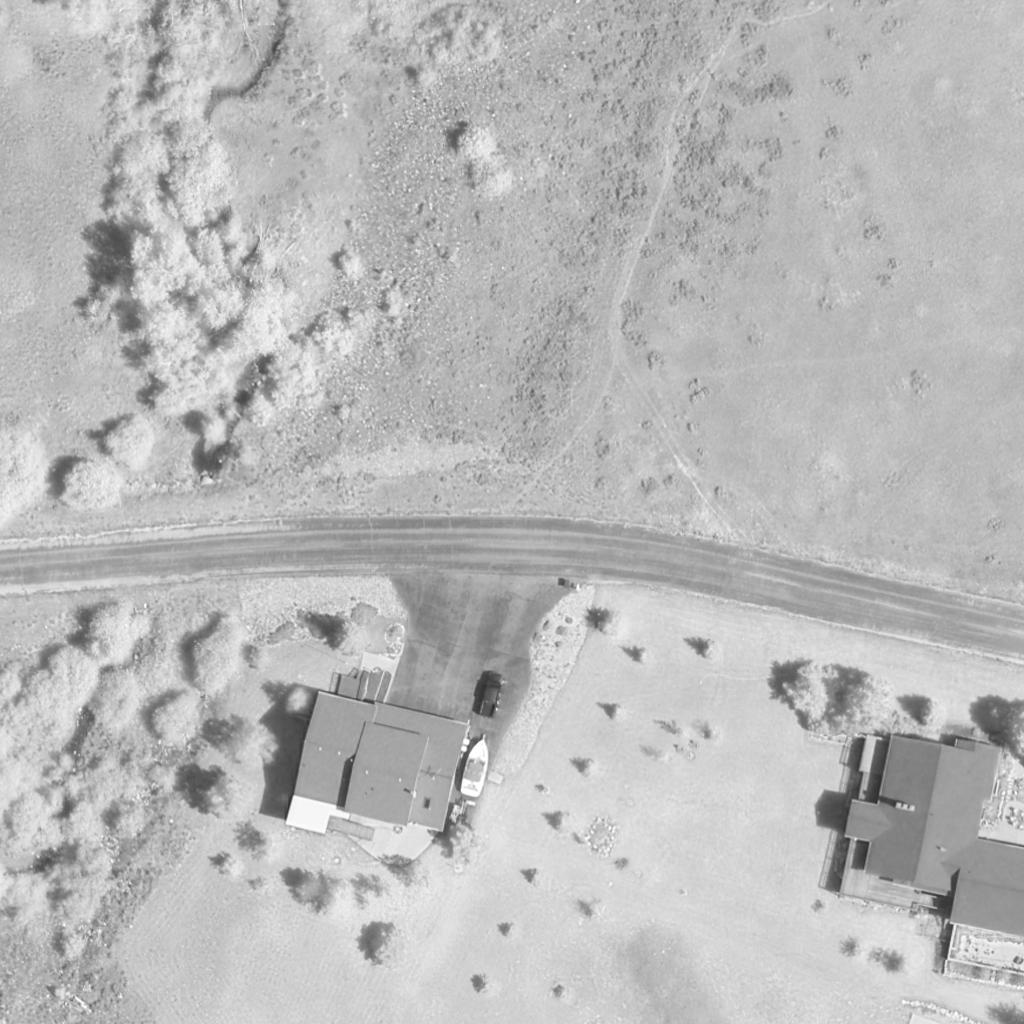vehicle: (457, 730, 497, 800), (475, 675, 507, 717)
